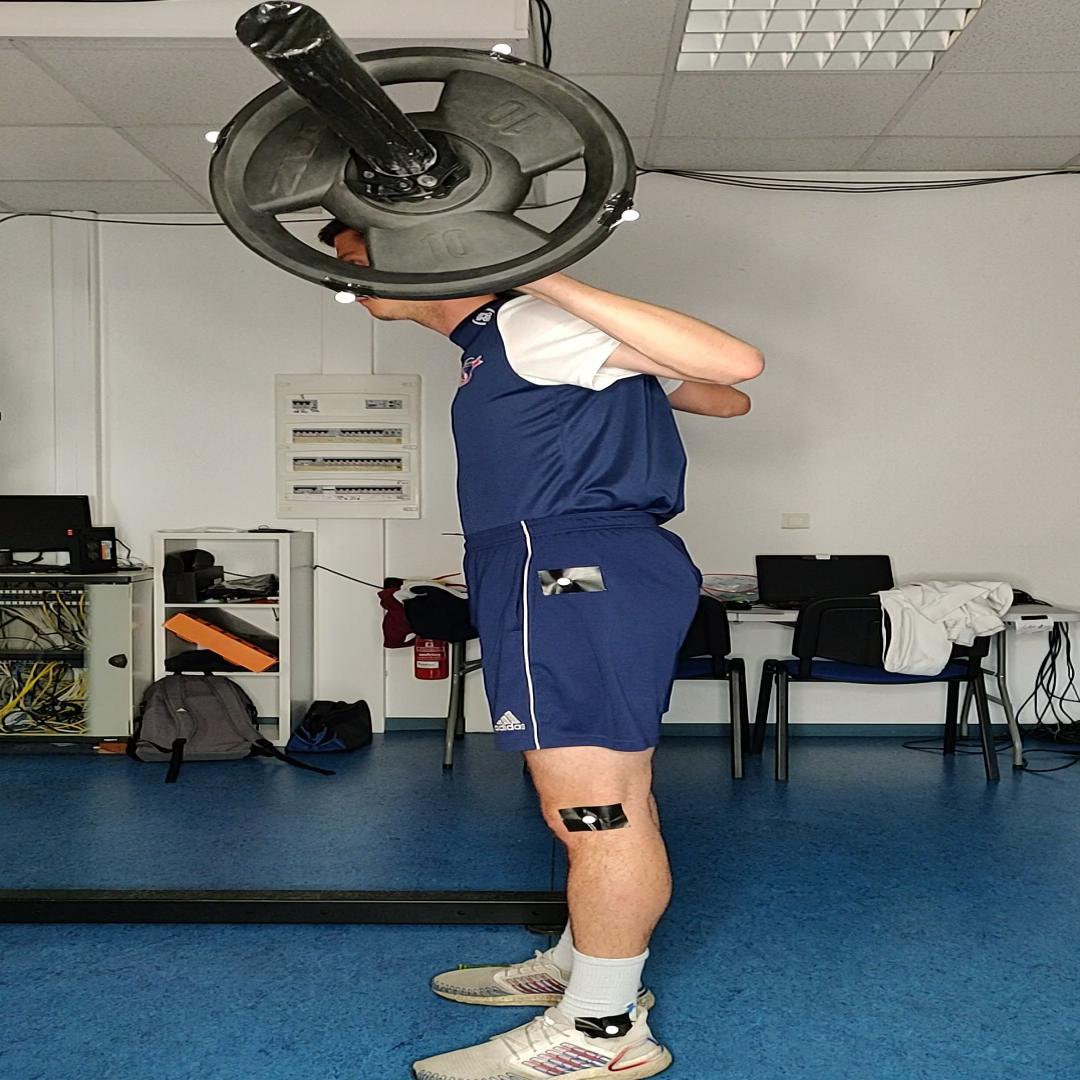Bar: (236, 1, 333, 58)
Barbell: (209, 45, 637, 301)
